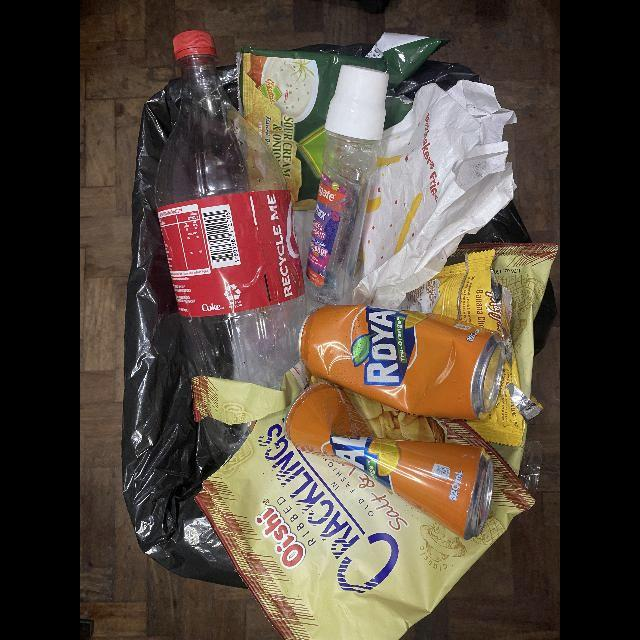aluminum: (286, 384, 493, 540), (299, 305, 506, 423)
food_wrapper: (192, 363, 539, 640), (236, 30, 448, 213), (401, 251, 542, 448), (445, 243, 555, 477)
paper: (351, 79, 517, 308)
plastic_bottle: (155, 31, 308, 392), (303, 65, 390, 305)
